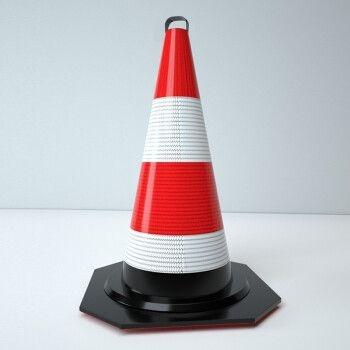cone_barrel: (103, 19, 245, 313)
